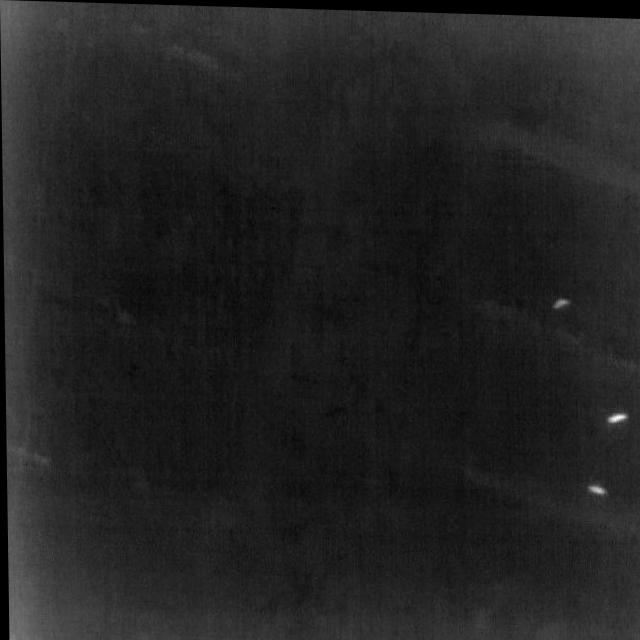deer: (604, 408, 627, 422), (551, 293, 571, 306), (585, 480, 606, 492)
